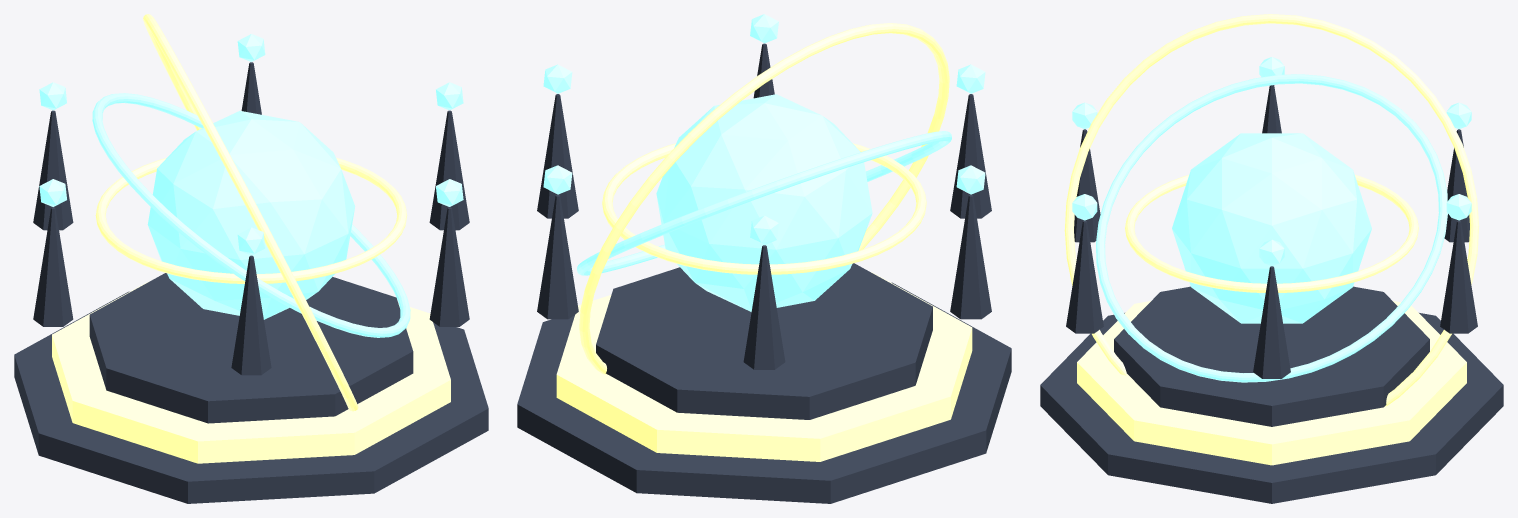
Rendered from gpu-blender-v5.glb.
3 renders of one model, left to right at view 1: azimuth 30°, elevation 25°; view 2: azimuth 150°, elevation 25°; view 3: azimuth 270°, elevation 25°, orthographic. The views are drawn at different scales.
Visible parts, largest first — view 1: Cylinder.002, SovereignCore_yara-sigma-forge, Cylinder, Cylinder.001, Torus.001, Torus.002, Torus, Cone.004, Cone.003, Cone.005, Cone, Cone.002 (+7 smaller); view 2: Cylinder.002, SovereignCore_yara-sigma-forge, Cylinder, Cylinder.001, Torus.002, Torus.001, Torus, Cone.001, Cone.003, Cone.002, Cone, Cone.004 (+6 smaller); view 3: SovereignCore_yara-sigma-forge, Cylinder.002, Cylinder, Cylinder.001, Torus.001, Torus.002, Torus, Cone.001, Cone.005, Cone, Cone.004, Cone.002 (+4 smaller).
Part boxes in pixels (bbox=[...]): Cylinder.002: bbox=[89, 273, 413, 423]; SovereignCore_yara-sigma-forge: bbox=[147, 110, 355, 319]; Cylinder: bbox=[14, 291, 488, 503]; Cylinder.001: bbox=[52, 281, 450, 463]; Torus.001: bbox=[92, 93, 410, 337]; Torus.002: bbox=[143, 14, 358, 411]; Torus: bbox=[95, 158, 407, 283]; Cone.004: bbox=[231, 255, 271, 375]; Cone.003: bbox=[33, 207, 73, 326]; Cone.005: bbox=[429, 207, 469, 326]; Cone: bbox=[429, 110, 469, 230]; Cone.002: bbox=[33, 110, 73, 230]; Cylinder.002: bbox=[596, 263, 932, 419]; SovereignCore_yara-sigma-forge: bbox=[656, 94, 872, 311]; Cylinder: bbox=[517, 282, 1011, 503]; Cylinder.001: bbox=[556, 272, 972, 461]; Torus.002: bbox=[579, 23, 949, 374]; Torus.001: bbox=[577, 131, 951, 275]; Torus: bbox=[602, 143, 926, 274]; Cone.001: bbox=[537, 195, 578, 319]; Cone.003: bbox=[950, 195, 991, 319]; Cone.002: bbox=[743, 245, 785, 369]; Cone: bbox=[537, 94, 578, 218]; Cone.004: bbox=[950, 94, 991, 218]; SovereignCore_yara-sigma-forge: bbox=[1172, 133, 1371, 323]; Cylinder.002: bbox=[1114, 286, 1429, 426]; Cylinder: bbox=[1040, 313, 1503, 503]; Cylinder.001: bbox=[1077, 301, 1466, 465]; Torus.001: bbox=[1096, 74, 1447, 382]; Torus.002: bbox=[1064, 14, 1479, 406]; Torus: bbox=[1125, 175, 1418, 292]; Cone.001: bbox=[1440, 220, 1477, 333]; Cone.005: bbox=[1066, 220, 1103, 333]; Cone: bbox=[1253, 266, 1290, 378]; Cone.004: bbox=[1074, 129, 1100, 242]; Cone.002: bbox=[1444, 129, 1469, 242].
Size of the model in its own units: 4.41 by 3.72 by 4.4.
